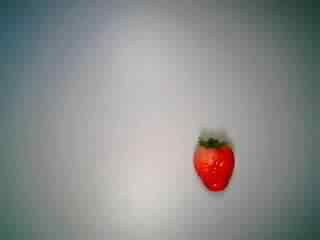strawberry: (172, 127, 238, 193)
